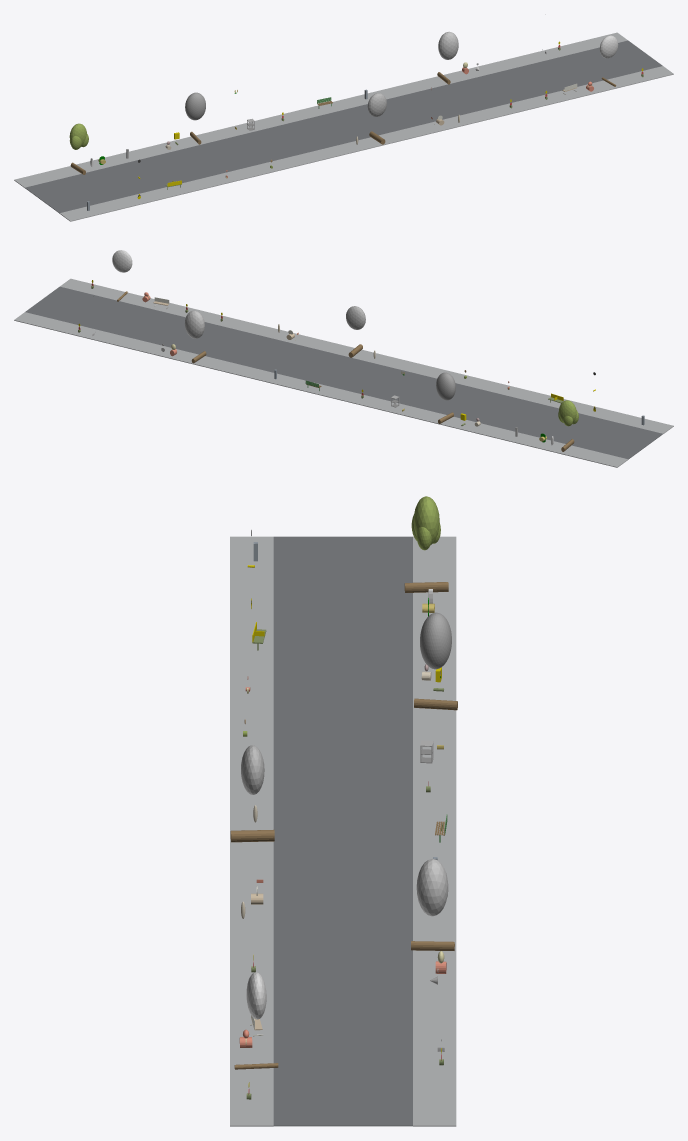
The picture shows the model from 3 angles, top to bottom: view 1: azimuth 30°, elevation 25°; view 2: azimuth 150°, elevation 25°; view 3: azimuth 270°, elevation 25°; orthographic projection. The views are drawn at different scales.
Visible parts, largest first — view 1: road_slab, sidewalk_left, sidewalk_right, inst_0015, inst_0013, inst_0012, inst_0014, inst_0016; view 2: road_slab, sidewalk_right, sidewalk_left, inst_0015, inst_0013, inst_0012, inst_0014, inst_0016; view 3: road_slab, sidewalk_left, sidewalk_right, inst_0015, inst_0013, inst_0012, inst_0014, inst_0016.
Part boxes in pixels (left/top/right/bottom): road_slab: left=25, top=40, right=662, bottom=213; sidewalk_left: left=59, top=66, right=673, bottom=221; sidewalk_right: left=14, top=32, right=627, bottom=187; inst_0015: left=437, top=31, right=458, bottom=84; inst_0013: left=185, top=92, right=205, bottom=144; inst_0012: left=69, top=123, right=88, bottom=174; inst_0014: left=367, top=93, right=386, bottom=144; inst_0016: left=599, top=35, right=618, bottom=86; road_slab: left=25, top=286, right=662, bottom=459; sidewalk_right: left=14, top=312, right=628, bottom=467; sidewalk_left: left=60, top=278, right=673, bottom=433; inst_0015: left=184, top=310, right=206, bottom=363; inst_0013: left=436, top=372, right=455, bottom=423; inst_0012: left=558, top=400, right=578, bottom=451; inst_0014: left=346, top=306, right=365, bottom=357; inst_0016: left=112, top=250, right=132, bottom=301; road_slab: left=273, top=536, right=412, bottom=1126; sidewalk_left: left=230, top=536, right=273, bottom=1126; sidewalk_right: left=413, top=536, right=456, bottom=1126; inst_0015: left=411, top=858, right=454, bottom=950; inst_0013: left=414, top=612, right=457, bottom=710; inst_0012: left=404, top=496, right=448, bottom=592; inst_0014: left=230, top=745, right=274, bottom=842; inst_0016: left=234, top=972, right=278, bottom=1069.
Size of the model in its own units: 80 by 6.08 by 13.09.
